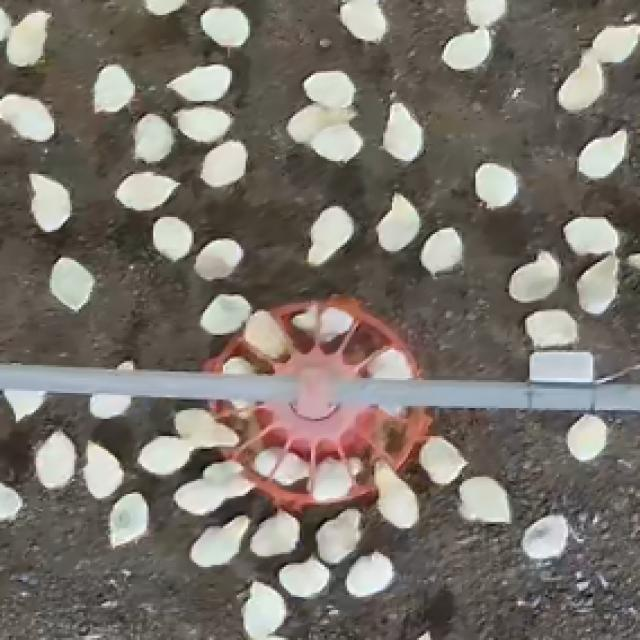broiler: (557, 49, 604, 112), (189, 515, 246, 563), (286, 103, 354, 142), (309, 206, 354, 264), (376, 464, 417, 526), (306, 457, 361, 503), (241, 582, 286, 638), (509, 251, 559, 301), (376, 193, 419, 251), (315, 509, 361, 563), (577, 129, 626, 178), (243, 309, 291, 359), (115, 172, 178, 210), (521, 515, 572, 561), (457, 477, 509, 522), (174, 408, 234, 447), (167, 64, 230, 101), (0, 94, 54, 137), (29, 174, 70, 230), (383, 101, 421, 161), (7, 11, 50, 64), (83, 440, 122, 498), (419, 436, 466, 483), (577, 256, 615, 314), (34, 430, 72, 488), (137, 436, 192, 475), (50, 258, 92, 309), (250, 511, 297, 556), (291, 307, 352, 341), (176, 105, 232, 142), (279, 556, 329, 597), (525, 309, 577, 348), (201, 140, 246, 185), (419, 228, 462, 275), (345, 552, 392, 595), (201, 294, 250, 335), (442, 28, 491, 69), (92, 64, 133, 112), (563, 217, 617, 253), (110, 492, 146, 546), (201, 6, 248, 47), (133, 114, 174, 161), (194, 238, 241, 279), (302, 71, 354, 107), (309, 125, 361, 161), (340, 0, 385, 41), (475, 163, 516, 208), (566, 414, 606, 460), (255, 449, 306, 485), (201, 460, 250, 496), (590, 24, 635, 62), (153, 217, 192, 260), (174, 479, 223, 513), (2, 389, 45, 421), (464, 0, 505, 26), (92, 393, 128, 414), (117, 361, 133, 367)
pipe: (0, 363, 297, 399), (334, 380, 638, 410)
rice: (203, 299, 430, 518)
